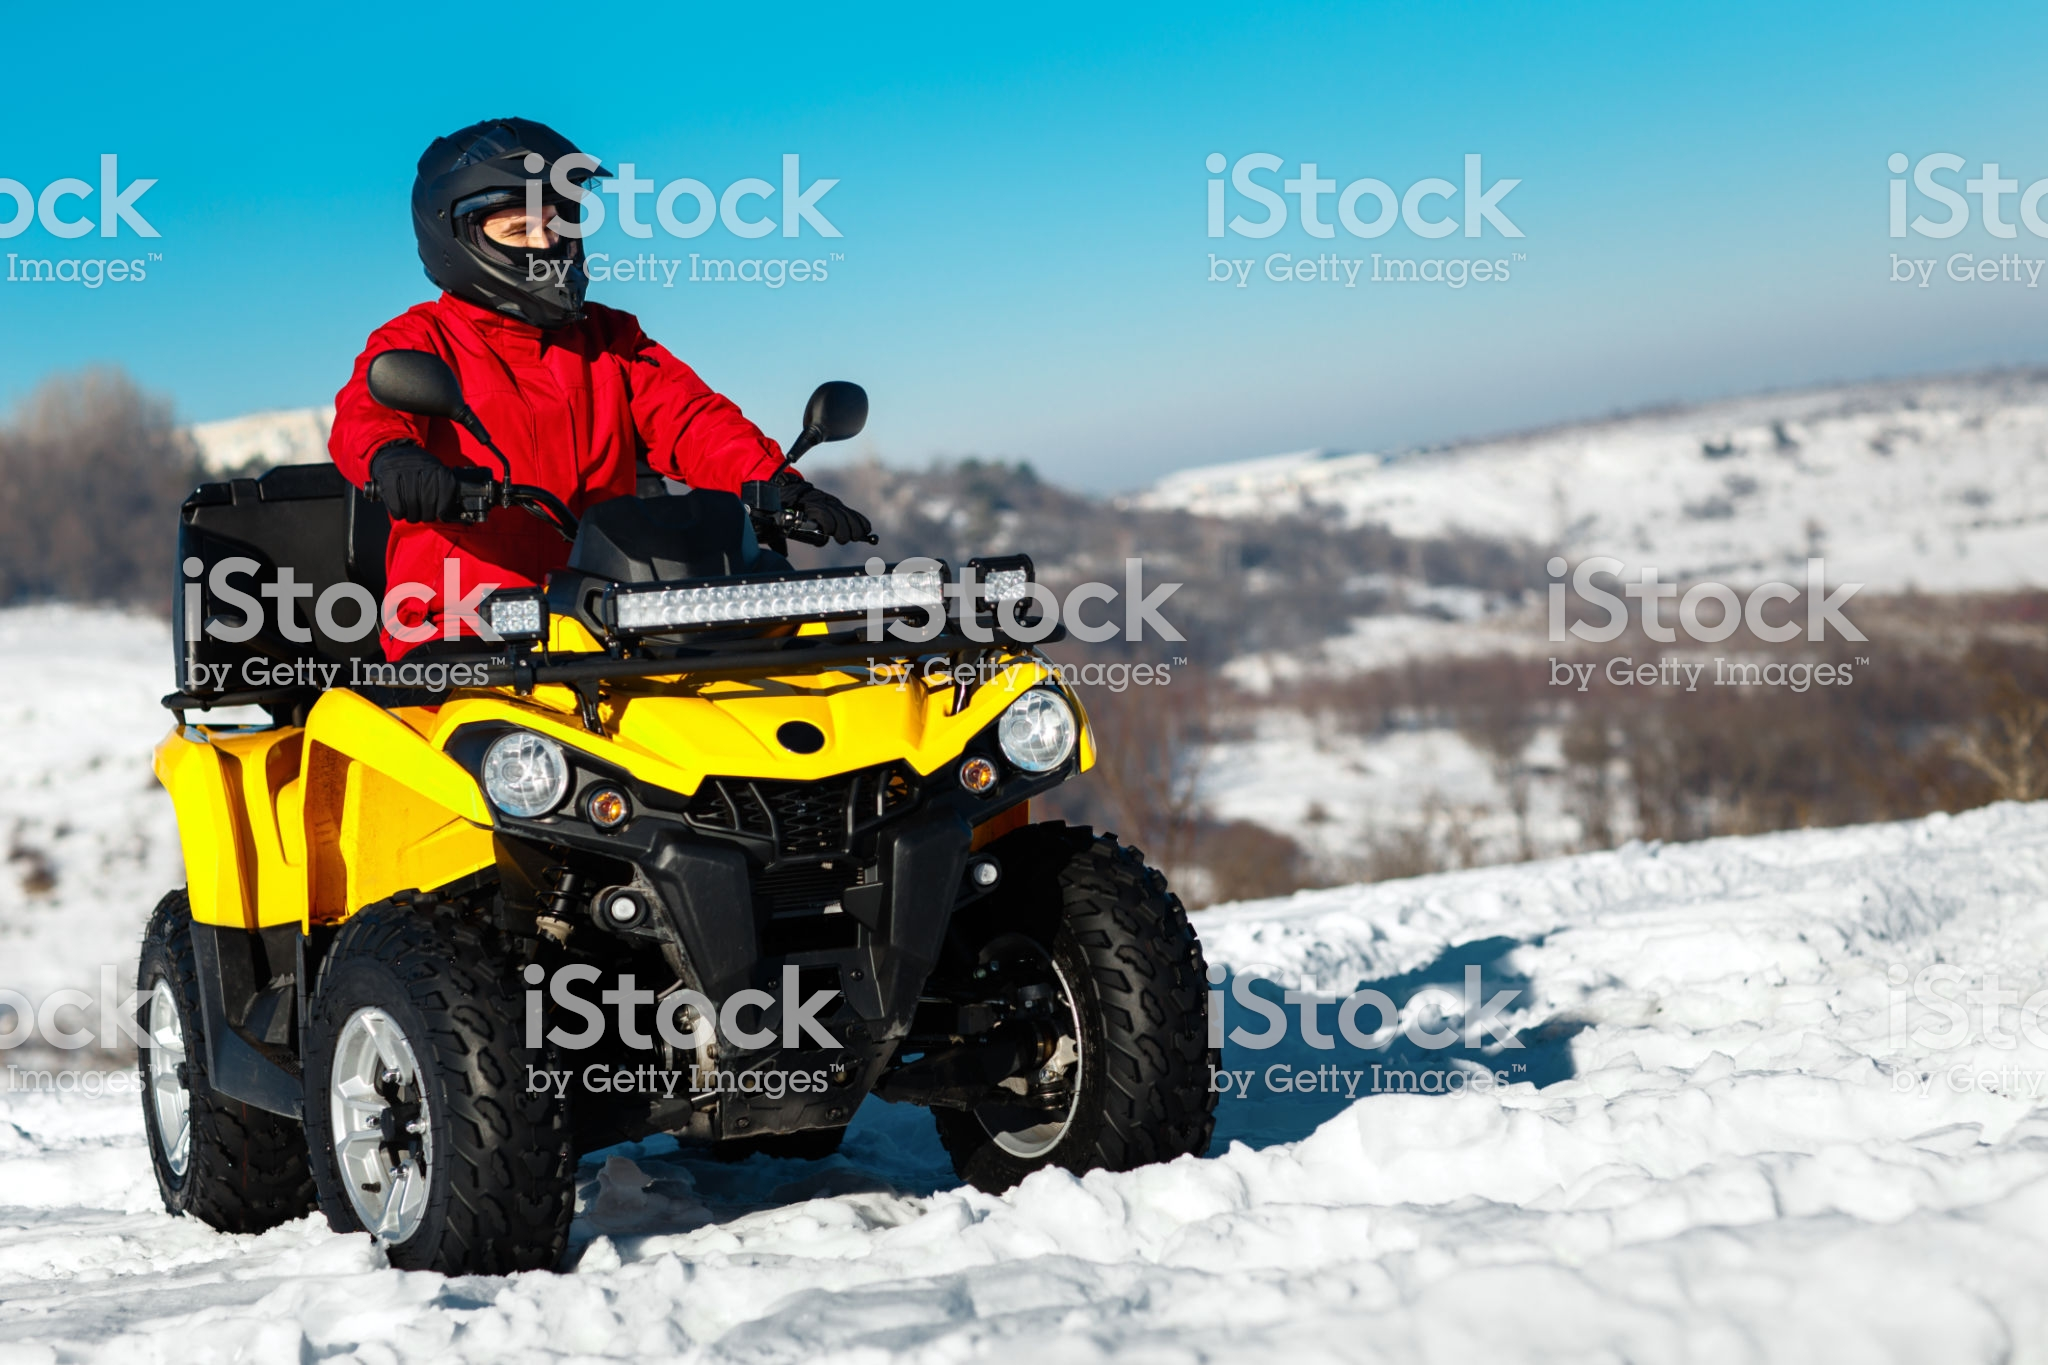helmet: (388, 113, 655, 328)
